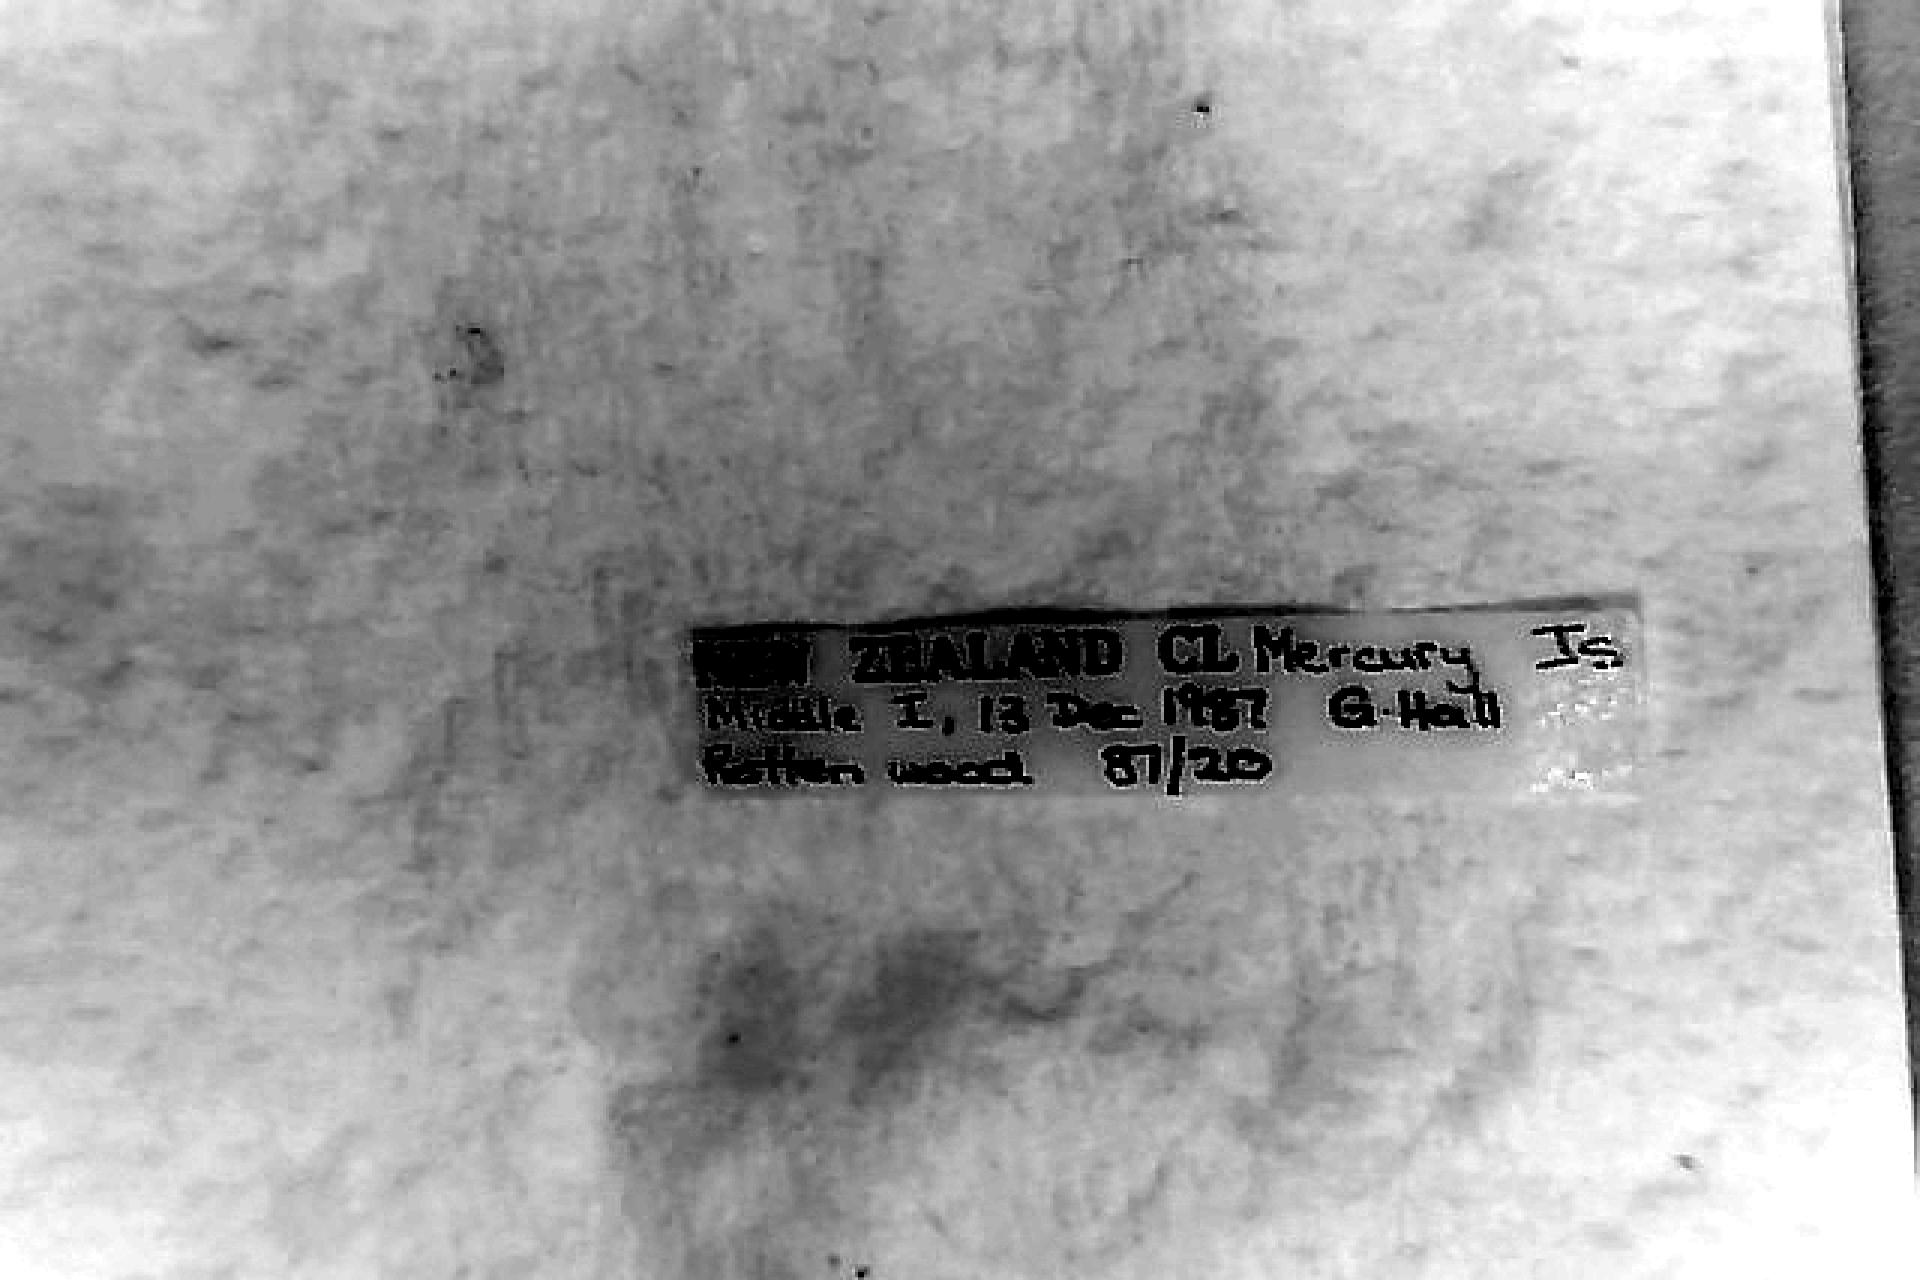mixed_label: (694, 600, 1635, 797)
